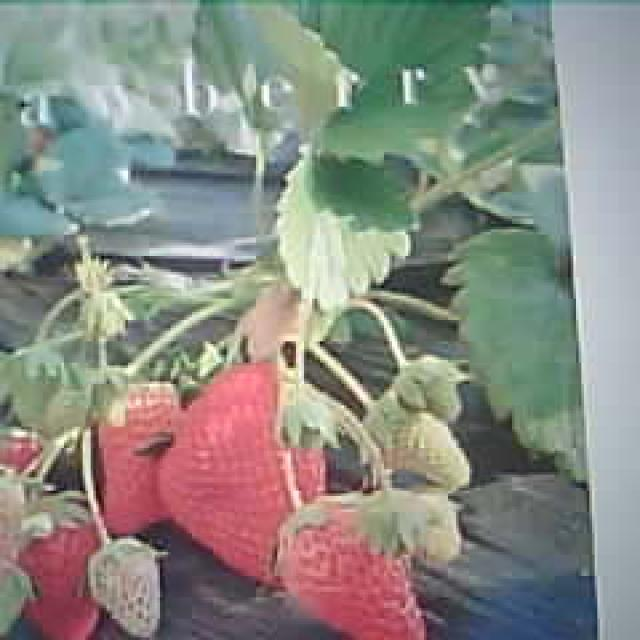ripe: (160, 362, 328, 574), (277, 493, 427, 640)
unripe: (369, 386, 471, 487), (92, 539, 161, 640), (392, 491, 463, 568), (401, 354, 462, 424)
